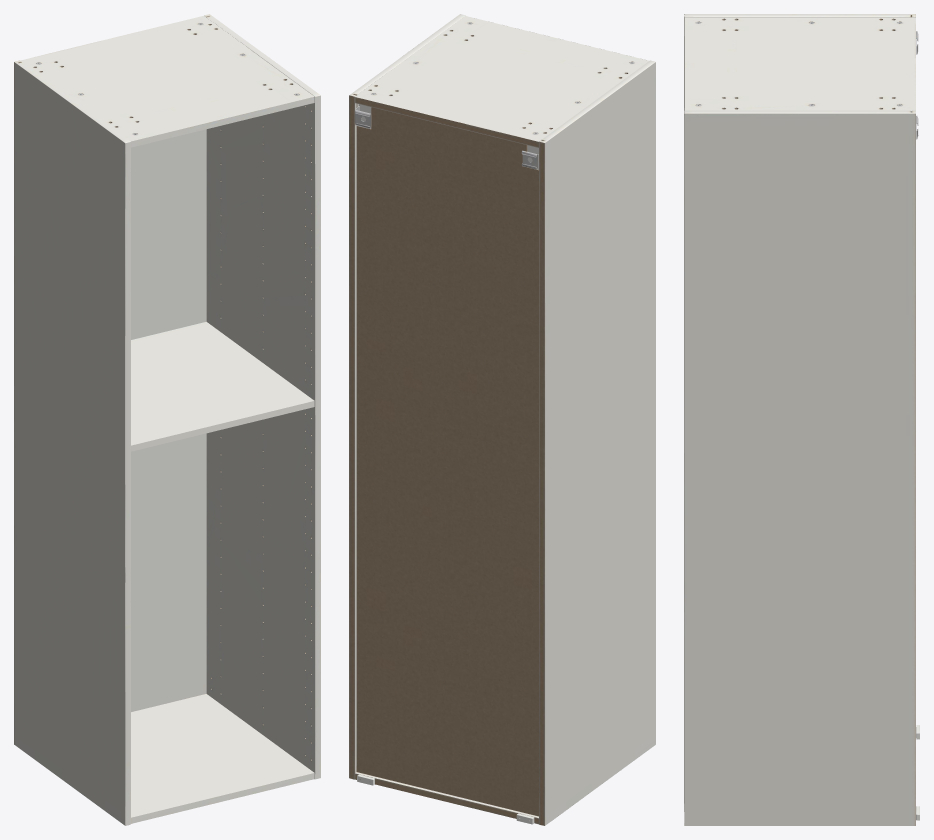
File: metod_szafka_wysoka_60212565.glb
3 views of the same model, side by side, from view 1: azimuth 30°, elevation 25°; view 2: azimuth 150°, elevation 25°; view 3: azimuth 270°, elevation 25° (orthographic). The views are drawn at different scales.
Visible parts, largest first — view 1: metod_szafka_wysoka_60212565; view 2: metod_szafka_wysoka_60212565; view 3: metod_szafka_wysoka_60212565.
Part boxes in pixels (x1,y1,x2,y2): metod_szafka_wysoka_60212565: [14, 14, 320, 825]; metod_szafka_wysoka_60212565: [349, 14, 655, 825]; metod_szafka_wysoka_60212565: [684, 14, 919, 825].
Size of the model in its own units: 0.6 by 2 by 0.6001.
1 material, 1 textured.
